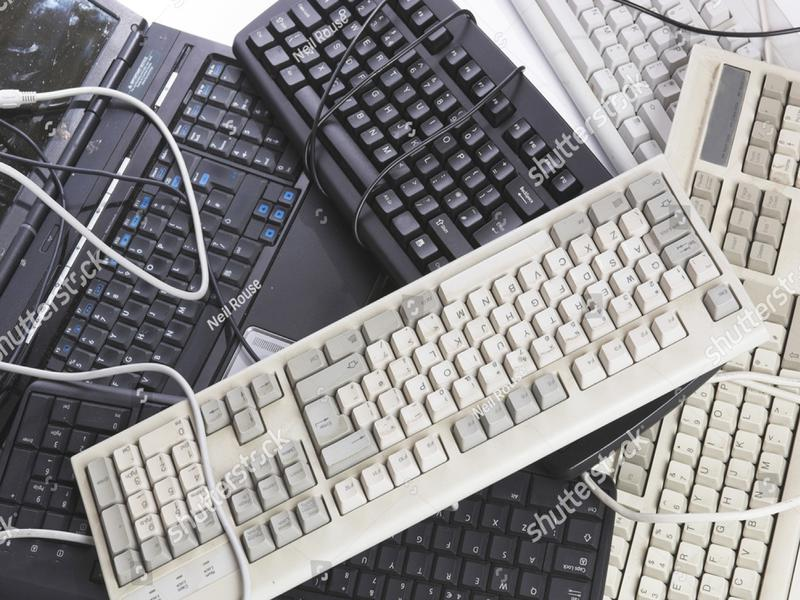keyboard: (71, 156, 766, 600), (227, 1, 616, 290), (36, 52, 301, 390)
